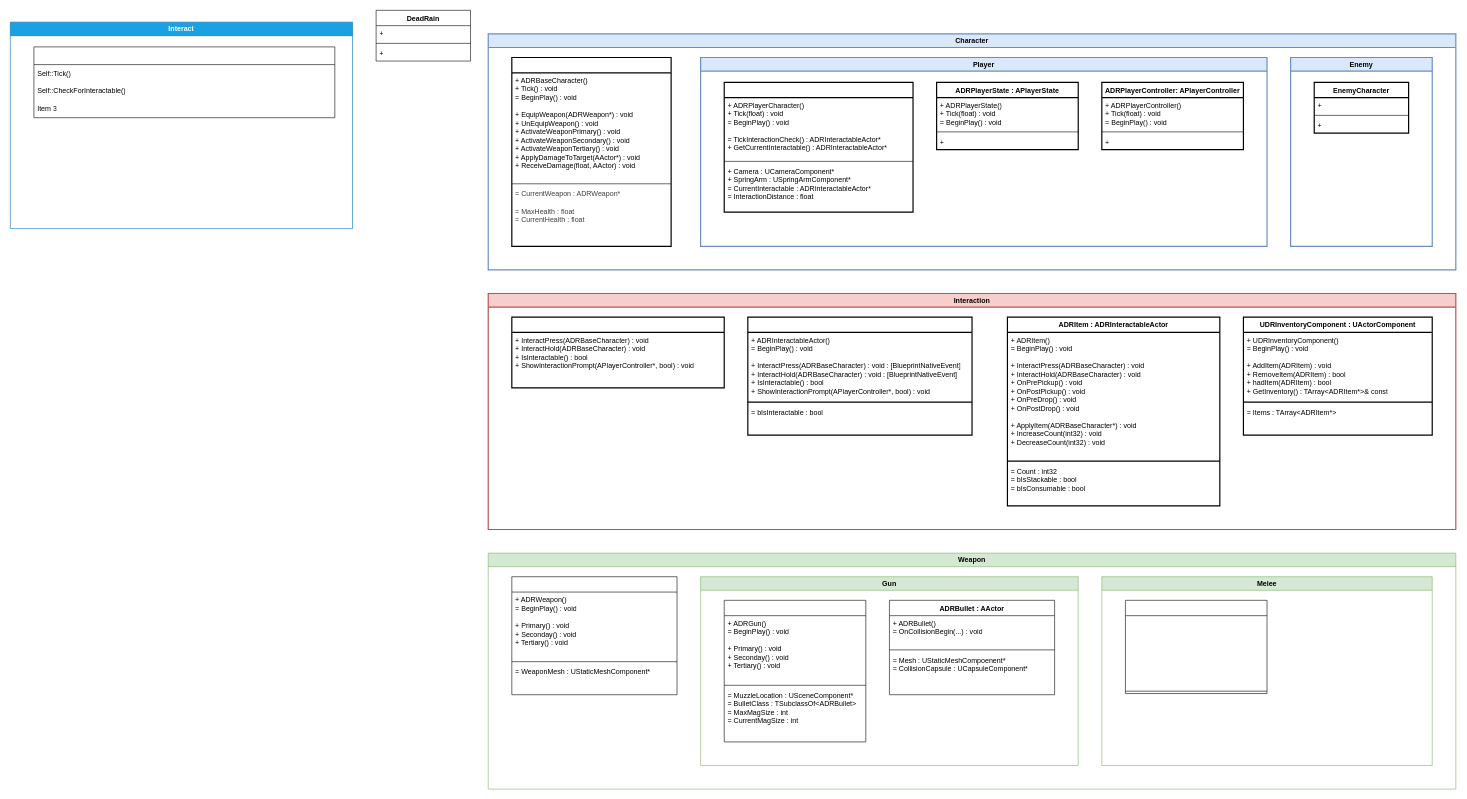
The diagram is 1467 pixels wide and 799 high, and some of its shapes have lost their labels. Each missing label, with the box of its shape:
ADRGun : ADRWeapon: (724, 600, 866, 742)
ADRInteractableActor : AActor & IDRInteractionInterface: (747, 316, 972, 435)
ADRMelee : ADRWeapon: (1125, 600, 1267, 694)
ADRWeapon : AActor: (511, 576, 677, 695)
BaseCharacter : ACharacter: (511, 57, 671, 247)
IDRInteractionInterface: (511, 316, 725, 388)
Player Hovers over a InteractableActor : ADRPlayerCharacter: (33, 46, 335, 118)
PlayerCharacter : BaseCharacter: (723, 81, 913, 212)
